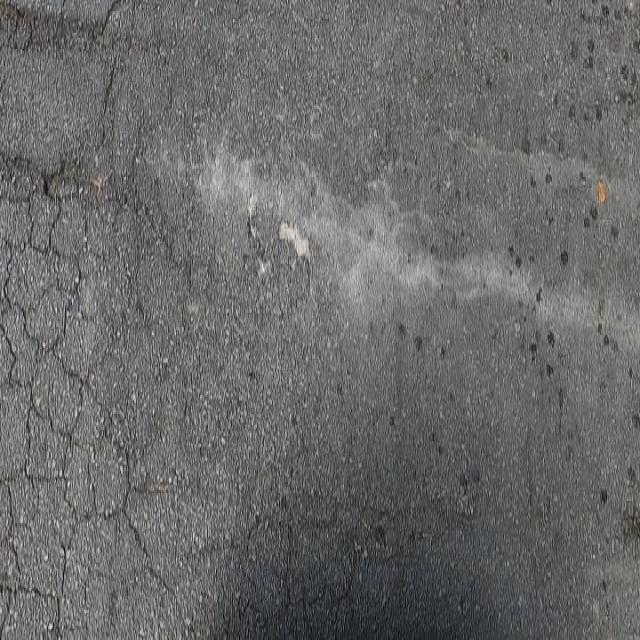cracks: (0, 1, 174, 640)
